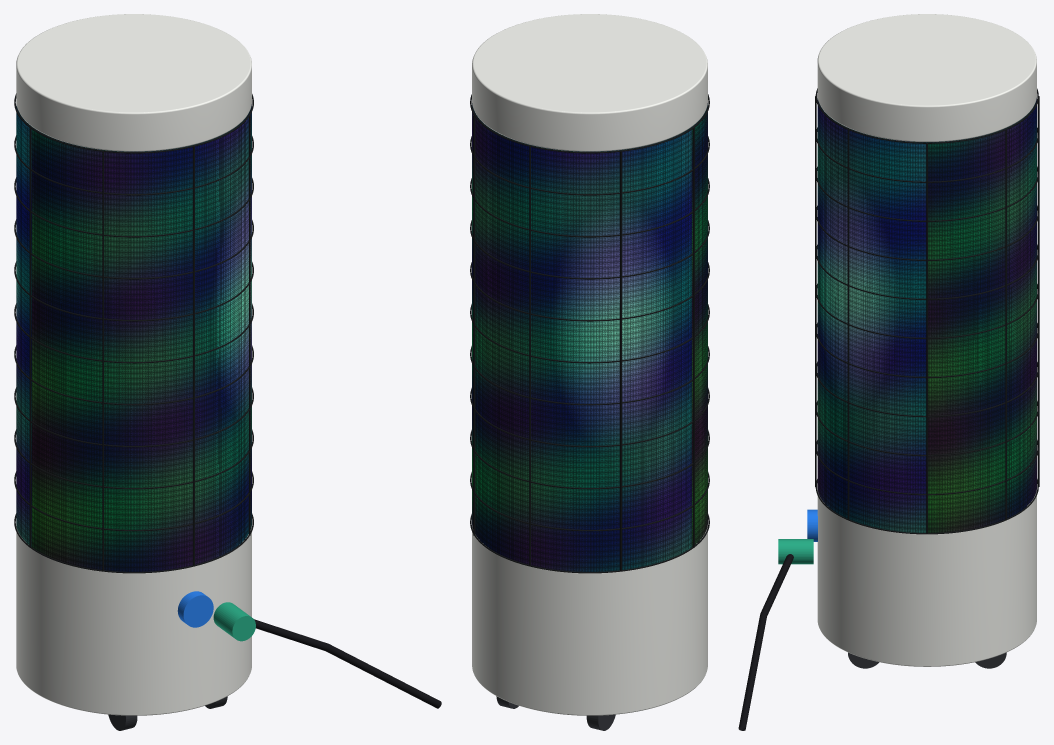
The model's file is signage-concept.glb.
3 views of the same model, side by side, from view 1: azimuth 30°, elevation 25°; view 2: azimuth 150°, elevation 25°; view 3: azimuth 270°, elevation 25° (orthographic). The views are drawn at different scales.
Visible parts, largest first — view 1: curved LED display front half, lower enclosure with access clearance, top cap, curved LED display rear half, power cable curve, module vertical seam 4, cable side waterproof connector, body side waterproof power connector, module vertical seam 5, module vertical seam 6, module vertical seam 7; view 2: curved LED display rear half, lower enclosure with access clearance, top cap, curved LED display front half, module vertical seam 1, module vertical seam 4, module vertical seam 2, module vertical seam 3, module horizontal seam 3, module horizontal seam 0, module horizontal seam 1, module horizontal seam 10 (+7 smaller); view 3: curved LED display front half, curved LED display rear half, lower enclosure with access clearance, top cap, power cable curve, module vertical seam 7, module vertical seam 2, cable side waterproof connector, module vertical seam 0, module vertical seam 1, module vertical seam 6, module horizontal seam 10 (+10 smaller).
Part boxes in pixels (<box>): curved LED display front half: <box>32,104,251,571</box>; lower enclosure with access clearance: <box>16,526,251,715</box>; top cap: <box>16,14,251,151</box>; curved LED display rear half: <box>16,105,32,546</box>; power cable curve: <box>254,619,441,708</box>; module vertical seam 4: <box>29,128,31,547</box>; cable side waterproof connector: <box>213,602,255,641</box>; body side waterproof power connector: <box>177,591,213,627</box>; module vertical seam 5: <box>102,151,103,571</box>; module vertical seam 6: <box>193,146,194,566</box>; module vertical seam 7: <box>249,115,250,535</box>; curved LED display rear half: <box>472,103,691,571</box>; lower enclosure with access clearance: <box>472,525,707,715</box>; top cap: <box>472,14,707,151</box>; curved LED display front half: <box>691,103,707,546</box>; module vertical seam 1: <box>473,115,475,535</box>; module vertical seam 4: <box>692,127,694,547</box>; module vertical seam 2: <box>529,146,530,566</box>; module vertical seam 3: <box>620,151,621,571</box>; module horizontal seam 3: <box>470,388,709,447</box>; module horizontal seam 0: <box>470,514,709,573</box>; module horizontal seam 1: <box>470,472,709,531</box>; module horizontal seam 10: <box>470,94,709,153</box>; curved LED display front half: <box>817,98,927,532</box>; curved LED display rear half: <box>927,98,1036,532</box>; lower enclosure with access clearance: <box>817,490,1036,666</box>; top cap: <box>817,14,1036,141</box>; power cable curve: <box>738,554,793,730</box>; module vertical seam 7: <box>847,129,849,520</box>; module vertical seam 2: <box>1037,96,1039,486</box>; cable side waterproof connector: <box>778,539,813,564</box>; module vertical seam 0: <box>926,143,927,534</box>; module vertical seam 1: <box>1005,129,1006,520</box>; module vertical seam 6: <box>815,96,816,486</box>; module horizontal seam 10: <box>815,88,1038,143</box>.
Size of what is drawn, in the model's own units: 1.24 by 2.4 by 1.12.
Materials: 9 (1 with a texture image).
